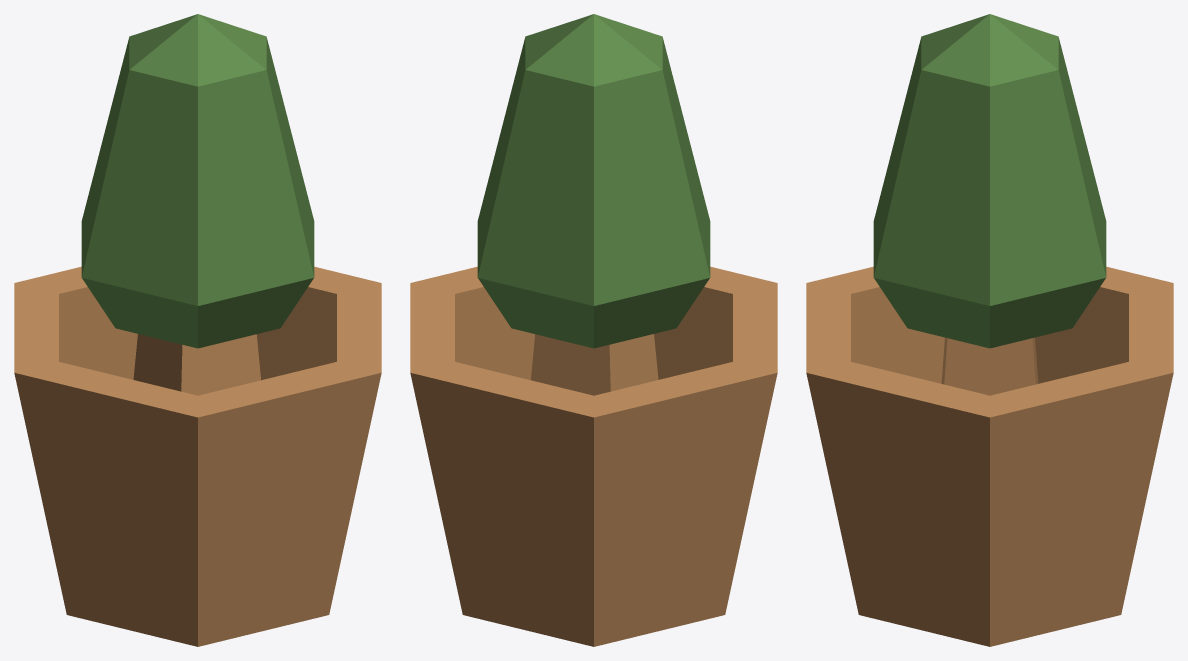
File: kitPlantSmall3.glb
The picture shows the model from 3 angles, left to right: view 1: azimuth 30°, elevation 25°; view 2: azimuth 150°, elevation 25°; view 3: azimuth 270°, elevation 25°; orthographic projection.
Parts seen in each view (by area): view 1: kitPlantSmall3_wood, kitPlantSmall3_leaf; view 2: kitPlantSmall3_wood, kitPlantSmall3_leaf; view 3: kitPlantSmall3_wood, kitPlantSmall3_leaf.
Boxes of the visible parts, box(x1,y1,x2,y2) form: kitPlantSmall3_wood: box(14, 266, 381, 646); kitPlantSmall3_leaf: box(81, 14, 314, 348); kitPlantSmall3_wood: box(410, 266, 777, 646); kitPlantSmall3_leaf: box(477, 14, 710, 348); kitPlantSmall3_wood: box(806, 266, 1173, 646); kitPlantSmall3_leaf: box(873, 14, 1106, 348).
Bounding box in the file's own units: 0.196 × 0.29 × 0.1697.
